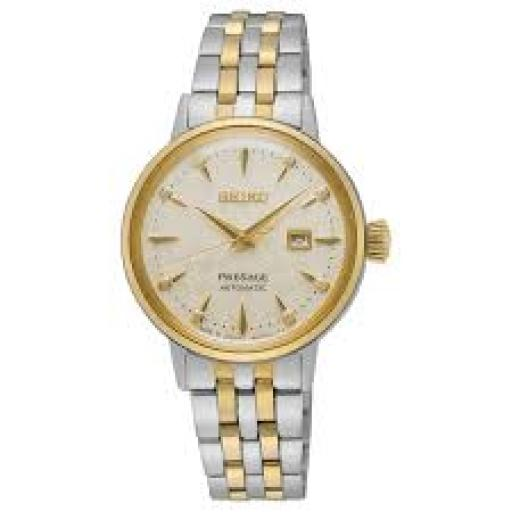KolSaati: (83, 0, 432, 512)
